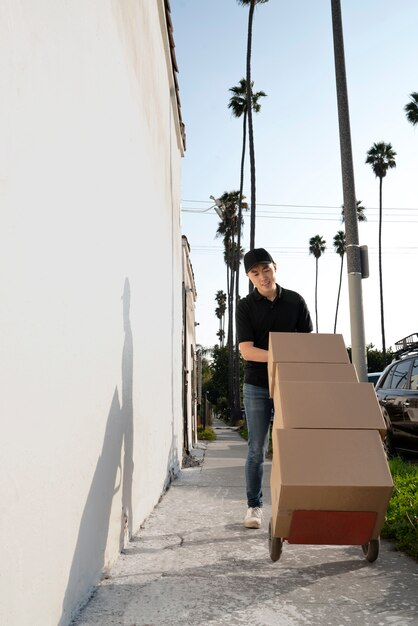DeliveryBox: (264, 326, 395, 530)
Person: (222, 250, 308, 533)
